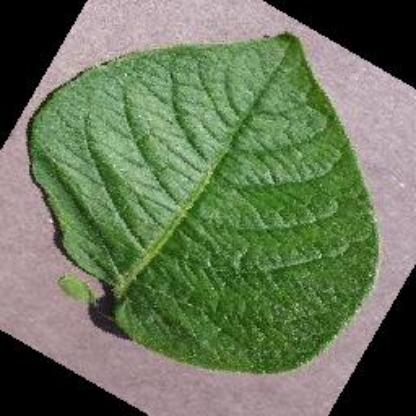Healthy-plant: (31, 30, 382, 374)
